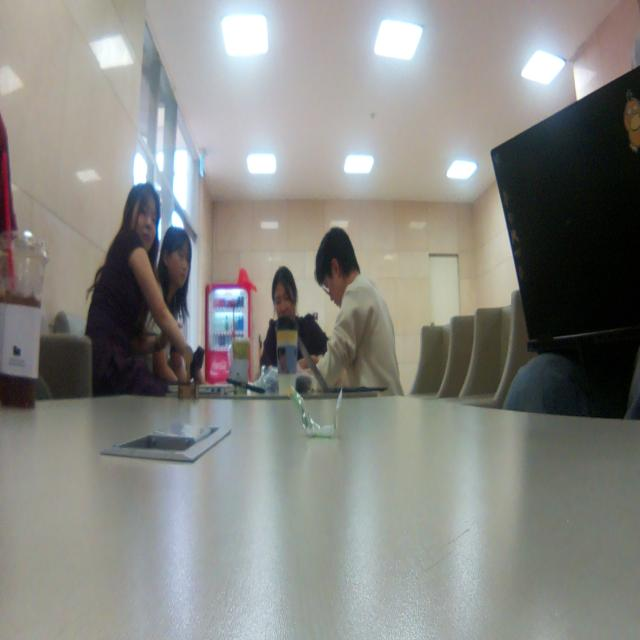target: (177, 345, 205, 402)
